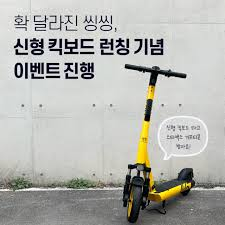kick_handler: (124, 64, 188, 85)
kick_neck: (135, 87, 155, 165)
kick_wheel: (128, 178, 142, 220), (178, 169, 194, 194)
